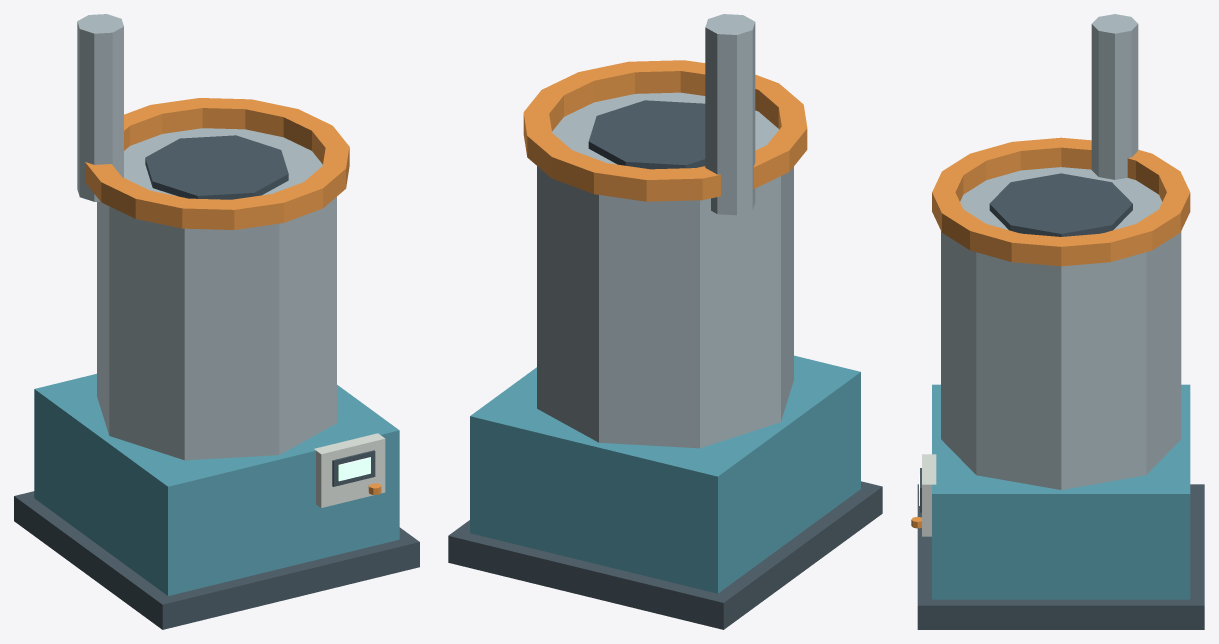
File: foundry-melting-furnace.glb
3 renders of one model, left to right at view 1: azimuth 30°, elevation 25°; view 2: azimuth 150°, elevation 25°; view 3: azimuth 270°, elevation 25°, orthographic. The views are drawn at different scales.
Visible parts, largest first — view 1: steel, blue, dark, orange, cream, light; view 2: steel, blue, dark, orange; view 3: steel, blue, dark, orange, cream.
Boxes of the visible parts, box(x1,y1,x2,y2) form: steel: box(77, 14, 336, 460); blue: box(34, 373, 399, 595); dark: box(14, 135, 419, 629); orange: box(85, 98, 381, 494); cream: box(314, 433, 385, 507); light: box(338, 457, 370, 481); steel: box(537, 14, 793, 448); blue: box(470, 355, 860, 593); dark: box(448, 100, 882, 629); orange: box(523, 60, 807, 201); steel: box(941, 14, 1181, 489); blue: box(932, 384, 1190, 599); dark: box(917, 173, 1204, 629); orange: box(911, 137, 1190, 528); cream: box(922, 454, 936, 536).
Bounding box in the file's own units: 1.6 × 3.1 × 1.64.
